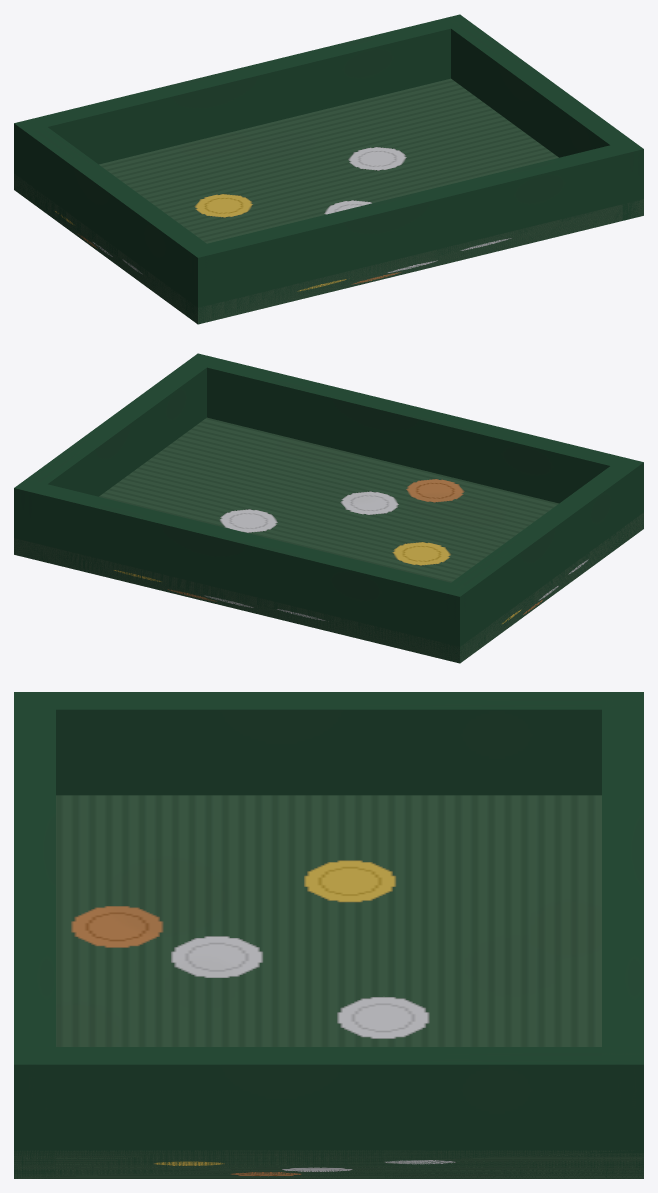
The model's file is cointray.glb.
The picture shows the model from 3 angles, top to bottom: view 1: azimuth 30°, elevation 25°; view 2: azimuth 150°, elevation 25°; view 3: azimuth 270°, elevation 25°; orthographic projection. The views are drawn at different scales.
Parts seen in each view (by area): view 1: cointray; view 2: cointray; view 3: cointray.
Boxes of the visible parts, bbox=[...] form: cointray: bbox=[14, 14, 643, 324]; cointray: bbox=[14, 353, 643, 663]; cointray: bbox=[14, 692, 643, 1178].
Bounding box in the file's own units: 0.168 × 0.024 × 0.12.
Materials: 1 (1 with a texture image).
